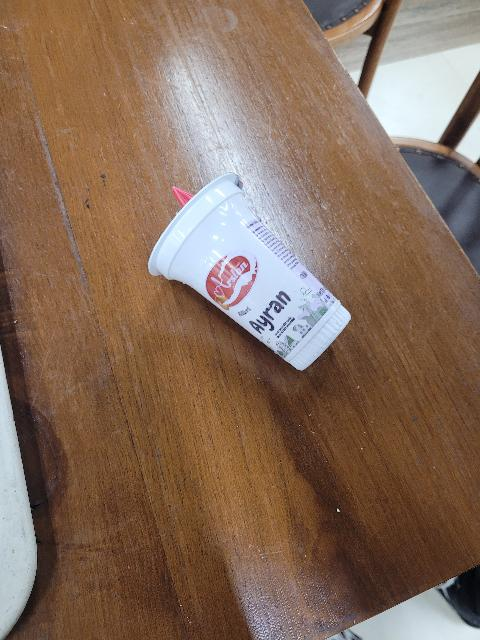Plastik: (147, 174, 358, 374)
